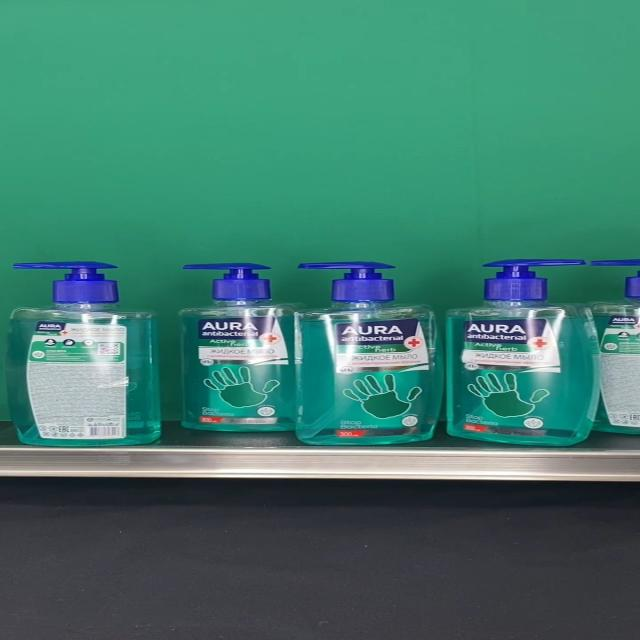Bottle: (445, 259, 601, 446), (5, 262, 161, 446), (294, 261, 443, 445), (177, 263, 309, 431)
Cap: (484, 259, 588, 302), (13, 262, 121, 302), (295, 261, 397, 299), (182, 263, 273, 299)
